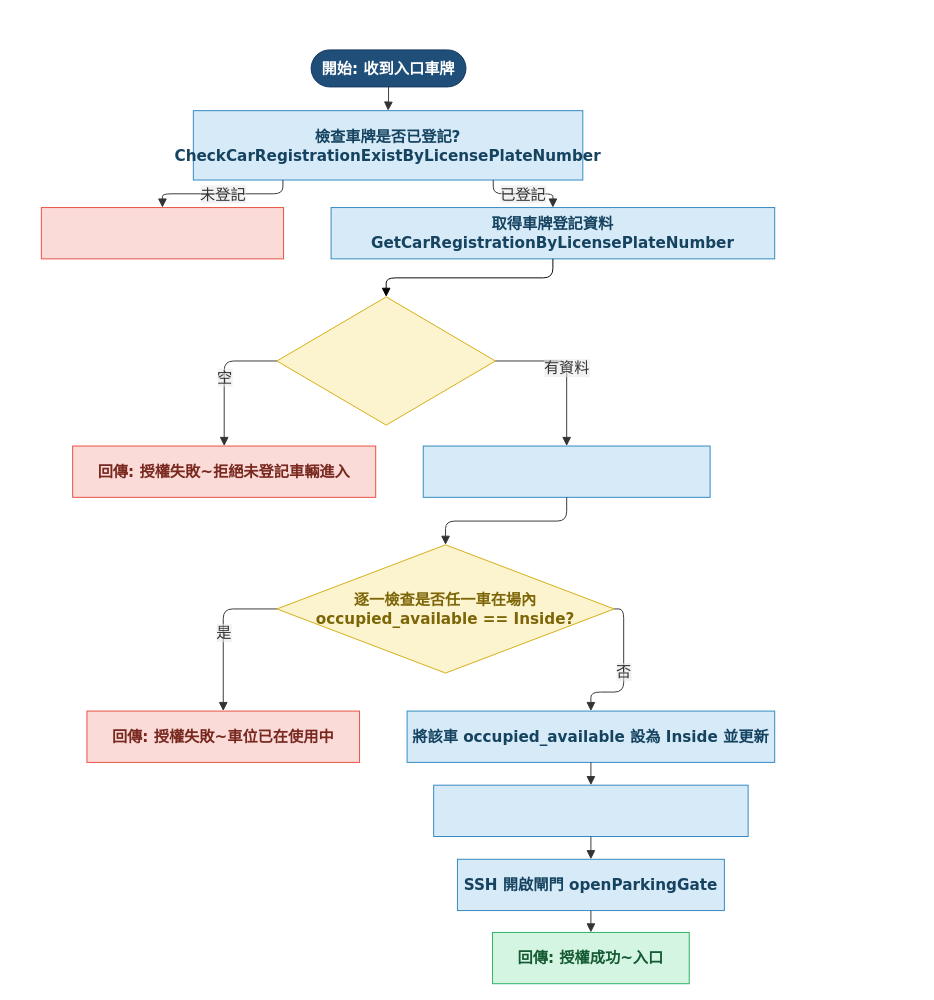
Image size: 934x1000. Some labels were removed from this diagram. Each missing label, with the centre of its shape:
"依 residentId 取得該住戶所有車輛" belongs at [566,471].
"回傳: 授權失敗~非登記車輛" belongs at [162,233].
"寫入進場紀錄 InsertCarEntryLog Entry" belongs at [590,810].
"登記資料是否為空?" belongs at [385,360].
